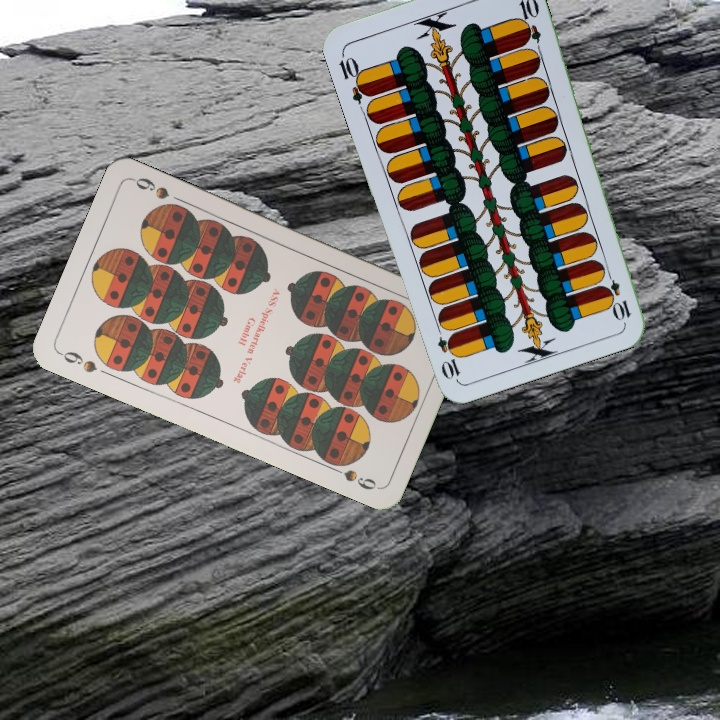E10: (335, 48, 373, 106), (600, 265, 634, 323)
S9: (55, 347, 99, 376)
